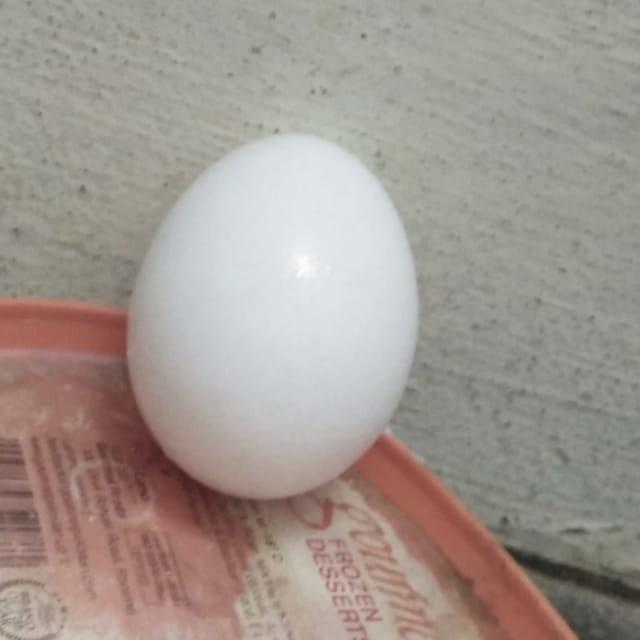egg: (121, 128, 423, 502)
